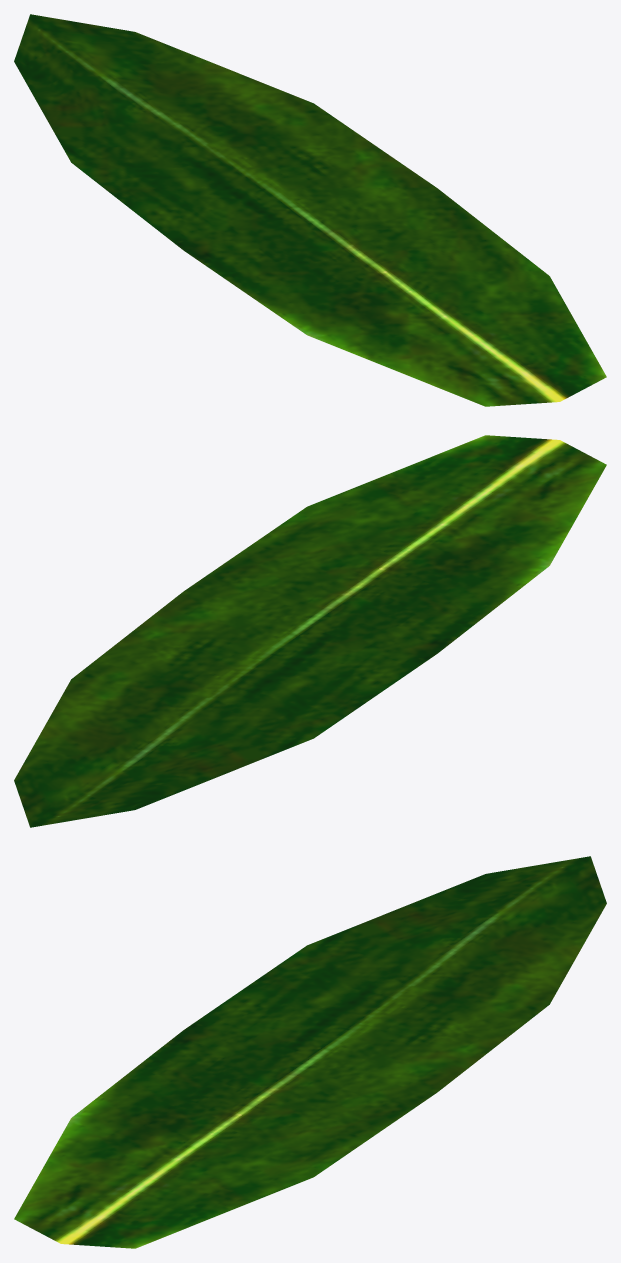
Rendered from sasa.fbx.
The picture shows the model from 3 angles, top to bottom: view 1: azimuth 30°, elevation 25°; view 2: azimuth 150°, elevation 25°; view 3: azimuth 330°, elevation 25°; orthographic projection.
Parts seen in each view (by area): view 1: sasa; view 2: sasa; view 3: sasa.
Boxes of the visible parts, x1,y1,x2,y2 form: sasa: (14, 14, 606, 406); sasa: (14, 435, 606, 827); sasa: (14, 856, 606, 1248).
Size of the model in its own units: 6.57 by 3.86e-06 by 23.71.
